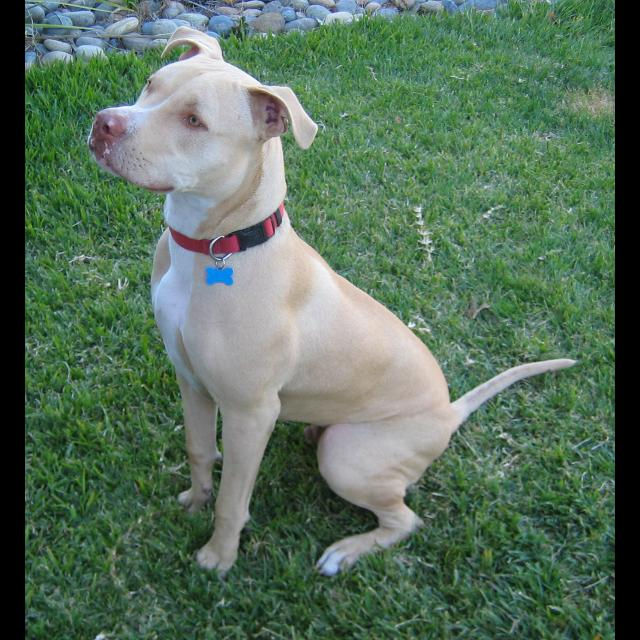am_pit_bull_terrier: (88, 26, 578, 581)
